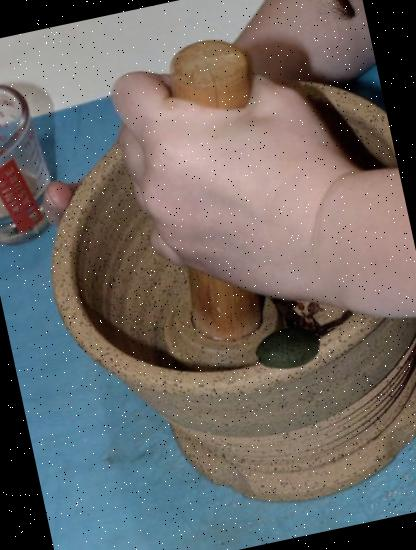Avocado: (249, 309, 327, 387)
